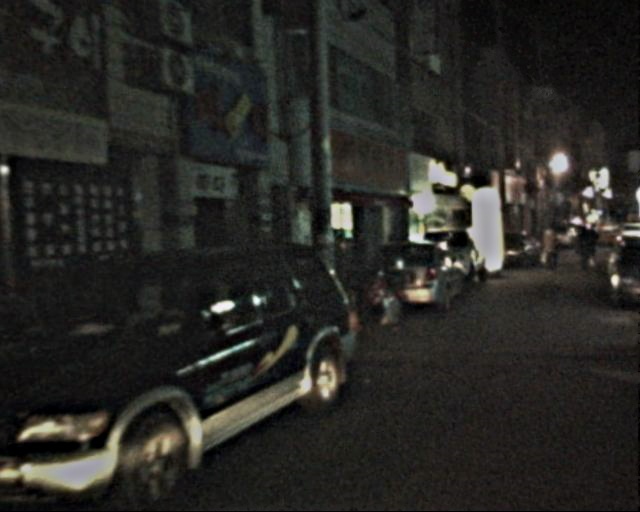person: (541, 226, 569, 279), (574, 227, 601, 279)
